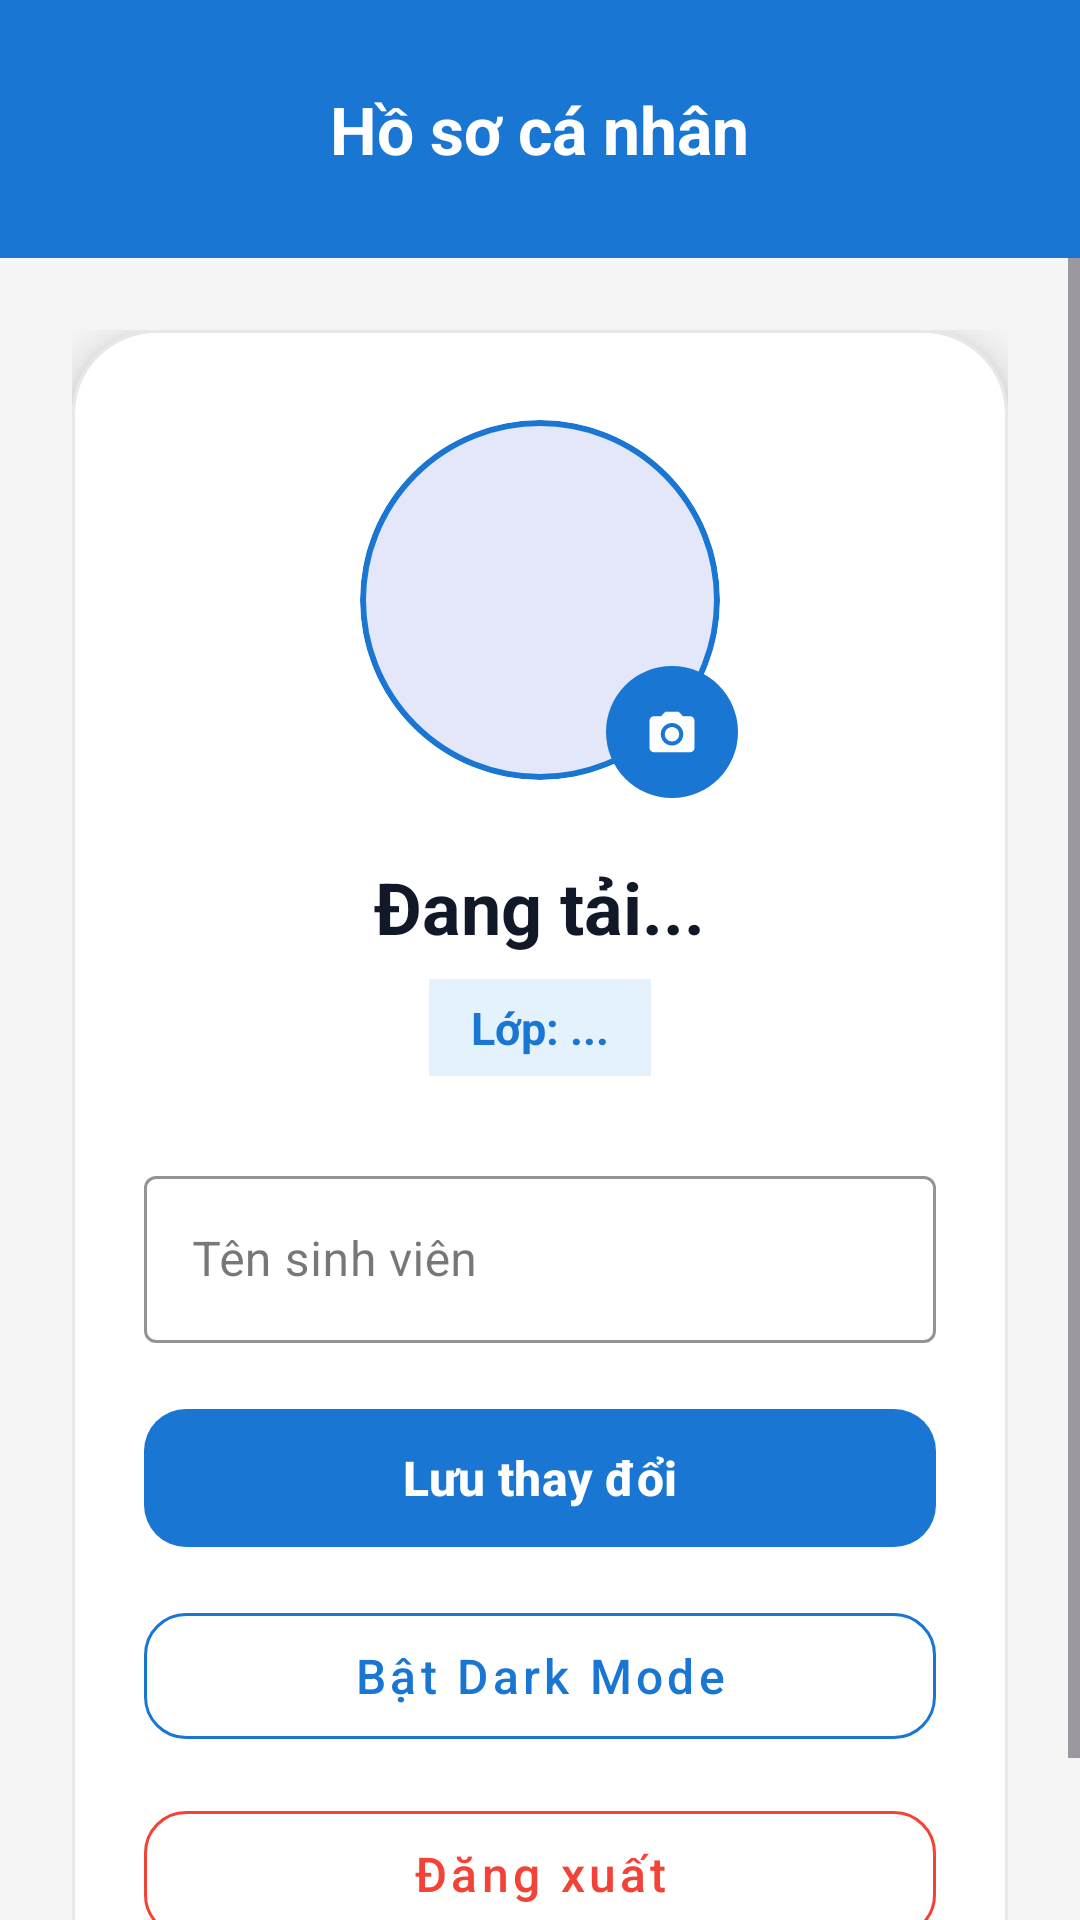

Named icons in this screenshot (1080w x 1920h) and their centers, (x=x, y=y):
camera: (x=672, y=732)
